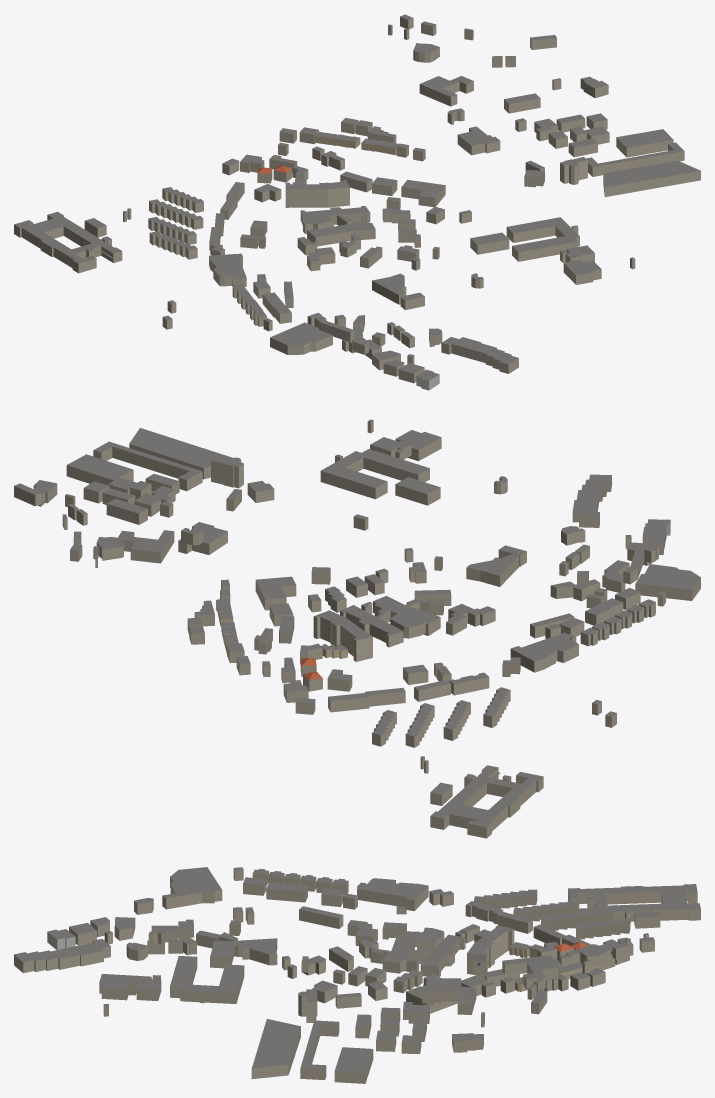
Rendered from buildings.glb.
3 views of the same model, one above another, from view 1: azimuth 30°, elevation 25°; view 2: azimuth 150°, elevation 25°; view 3: azimuth 270°, elevation 25° (orthographic). The views are drawn at different scales.
Visible parts, largest first — view 1: T_E0_S3_buildings; view 2: T_E0_S3_buildings; view 3: T_E0_S3_buildings.
Part boxes in pixels (x1=…): T_E0_S3_buildings: x1=14, y1=14, x2=700, y2=390; T_E0_S3_buildings: x1=14, y1=419, x2=700, y2=838; T_E0_S3_buildings: x1=14, y1=867, x2=700, y2=1083.
Size of the model in its own units: 550 by 152 by 573.
